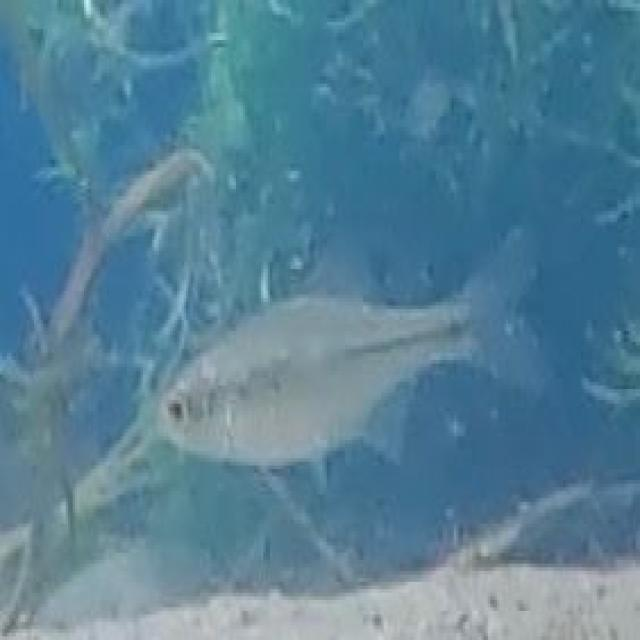Cakil Baligi: (156, 216, 572, 474)
